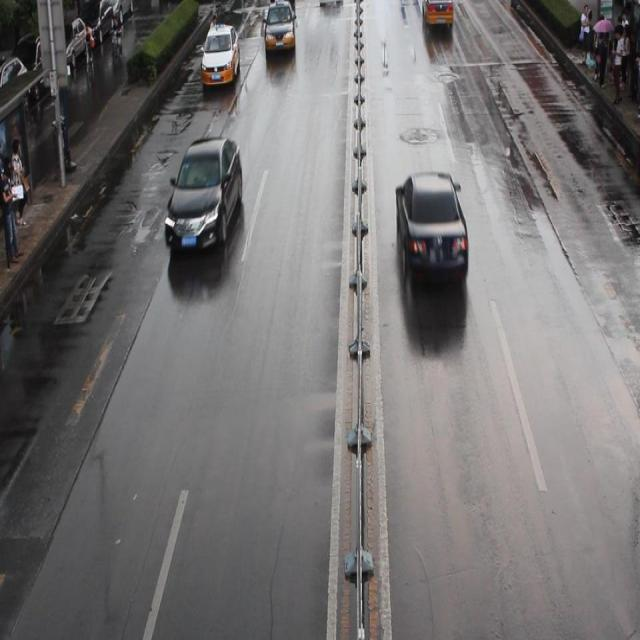car: (164, 134, 242, 251), (394, 170, 467, 278), (200, 23, 239, 86), (264, 1, 296, 52), (421, 1, 453, 27), (268, 1, 295, 10), (320, 1, 342, 8)
